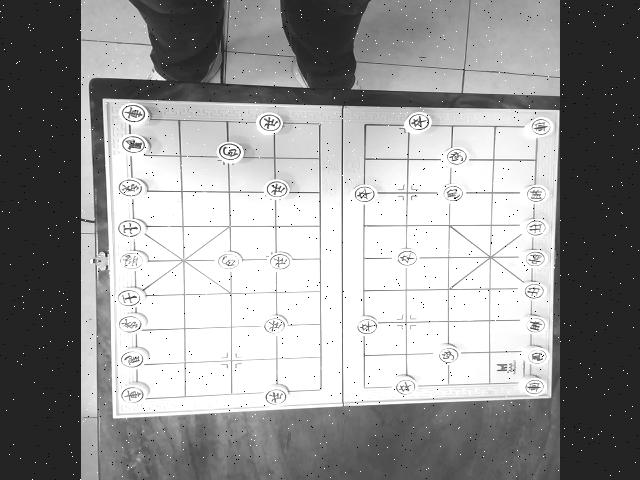piece: (117, 382, 148, 405), (114, 287, 146, 308), (119, 103, 149, 125), (118, 347, 148, 369), (118, 134, 149, 155), (115, 177, 146, 197), (403, 112, 431, 134), (440, 146, 469, 167), (523, 117, 553, 137), (116, 313, 146, 333), (255, 112, 282, 134), (216, 141, 243, 163), (116, 218, 146, 237), (117, 250, 147, 269), (433, 343, 460, 364), (351, 315, 378, 336), (521, 345, 549, 365), (518, 375, 546, 395), (519, 184, 548, 203), (263, 384, 288, 406), (391, 375, 417, 396), (519, 315, 547, 334), (437, 183, 465, 202), (517, 281, 546, 299), (518, 249, 547, 267), (519, 218, 548, 236), (261, 314, 287, 334), (350, 184, 376, 204), (263, 179, 289, 199), (392, 248, 418, 267), (267, 251, 292, 270), (216, 251, 241, 269)
